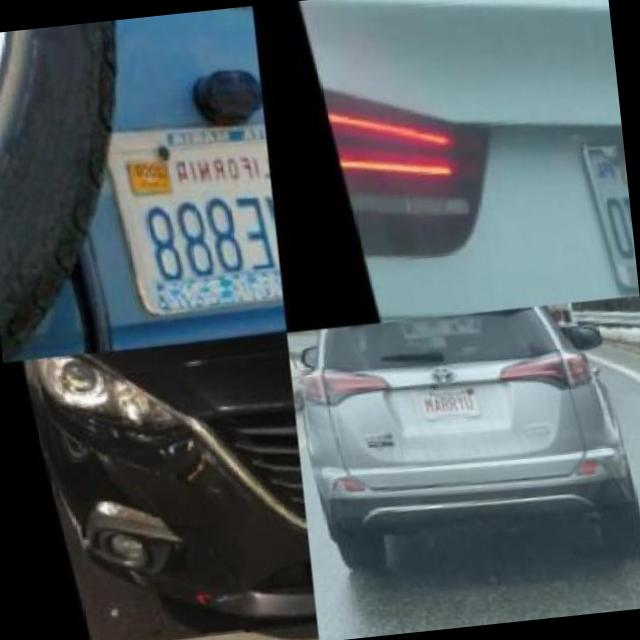LicensePlate: (111, 116, 282, 306), (568, 125, 640, 302), (406, 379, 471, 416)
